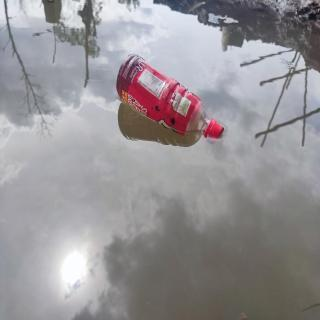bottle: (113, 51, 227, 145)
